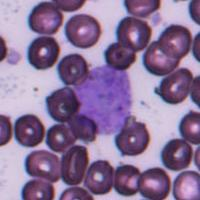E: (73, 64, 134, 133)
